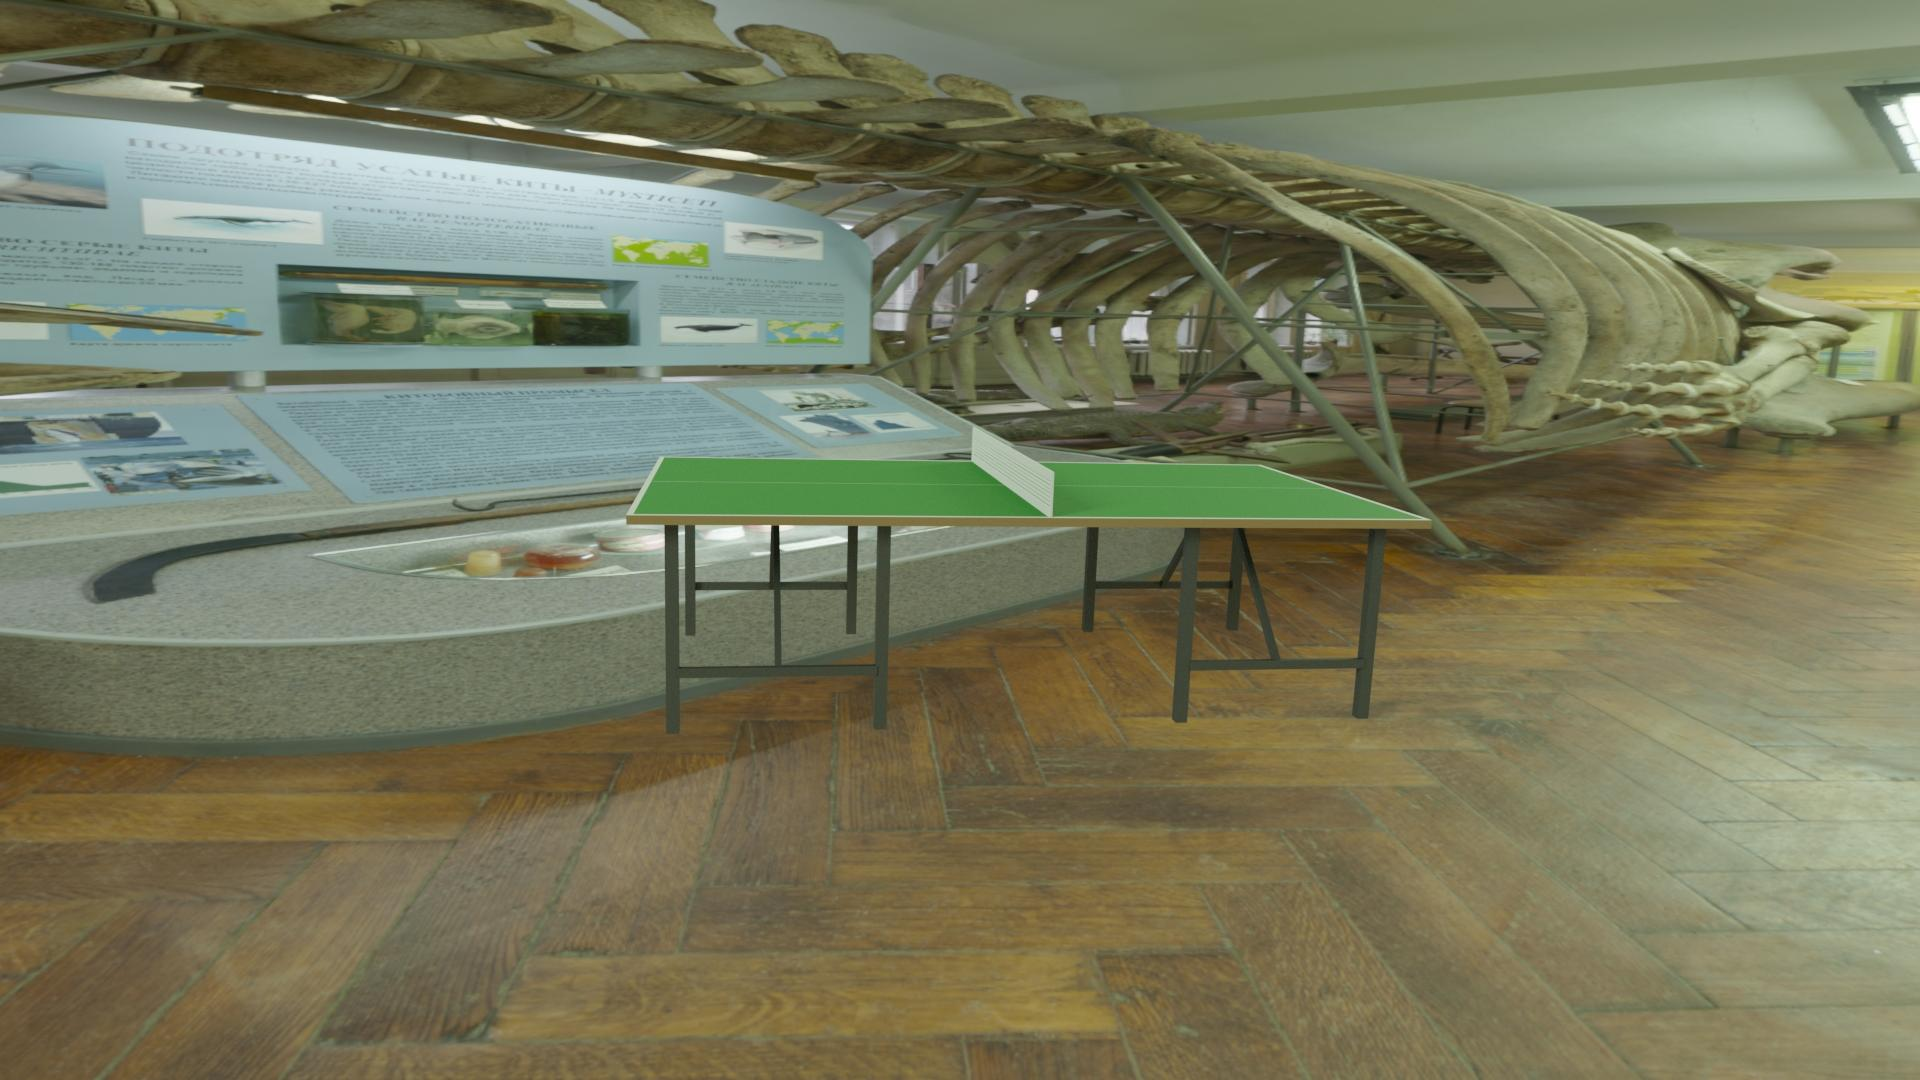table: (633, 458, 1424, 520)
